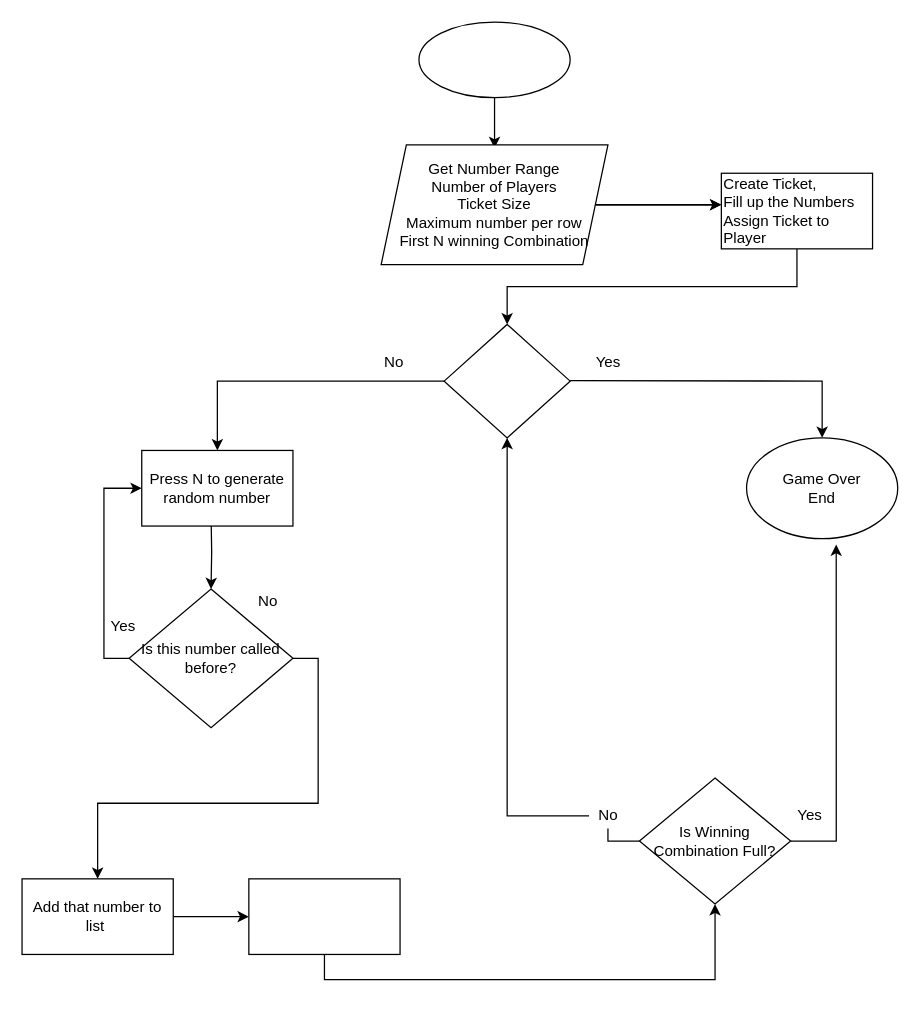
Some shapes in this 920 by 1012 pixel diagram are drawn without their labels. Here are the shapes that lost their labels. From the top down, the centre of each, then its label:
(x=494, y=59): Start
(x=506, y=380): Full Housie or Quit?
(x=324, y=916): Iterate over each player and check winning combination
